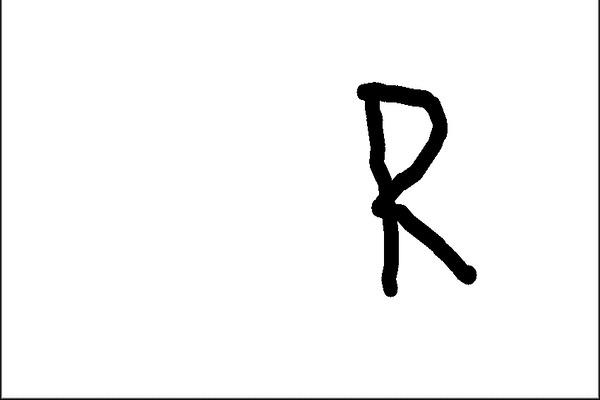R: (348, 72, 487, 299)
